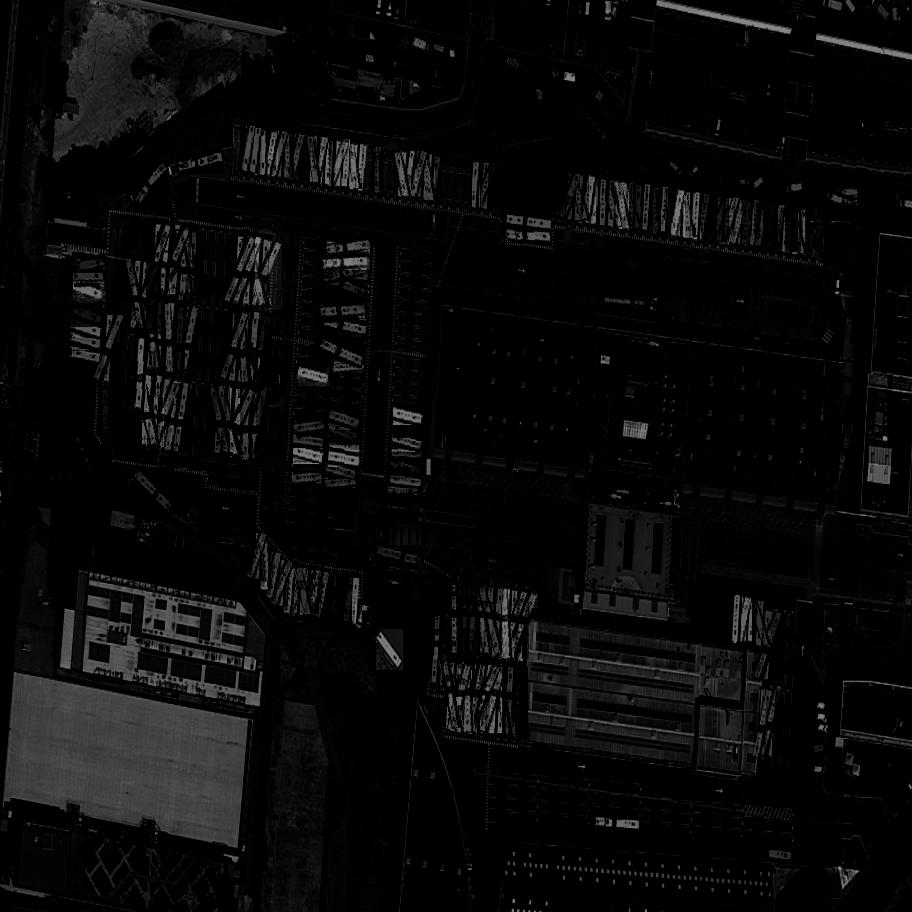large-vehicle: (220, 390, 257, 459), (250, 241, 285, 311), (468, 665, 503, 734), (222, 237, 256, 307), (128, 265, 162, 334), (231, 238, 265, 307), (159, 226, 193, 294), (92, 315, 125, 385), (150, 379, 182, 451), (130, 467, 177, 516), (219, 313, 251, 384), (508, 591, 539, 662), (499, 590, 530, 660), (143, 224, 173, 296), (754, 611, 784, 682), (131, 160, 171, 210), (481, 666, 508, 736), (448, 660, 473, 734), (249, 316, 274, 388), (244, 237, 269, 309), (760, 687, 785, 757), (217, 387, 241, 459), (478, 585, 502, 657), (246, 390, 269, 464), (831, 422, 855, 492), (466, 662, 489, 735), (163, 382, 186, 454), (208, 386, 230, 458), (753, 689, 775, 759), (179, 307, 200, 378), (318, 338, 366, 369), (509, 668, 529, 741), (137, 375, 157, 446), (127, 261, 147, 332), (374, 629, 407, 671), (184, 231, 203, 302), (322, 274, 370, 302), (174, 383, 192, 454), (437, 618, 454, 693), (176, 230, 193, 303), (148, 375, 165, 447), (269, 560, 294, 608), (473, 162, 498, 210), (245, 312, 261, 385), (494, 664, 510, 737), (145, 299, 161, 371), (327, 140, 351, 188), (474, 583, 490, 655), (710, 196, 734, 244), (445, 659, 461, 730), (286, 569, 310, 616), (246, 534, 269, 582), (561, 174, 584, 221), (542, 824, 591, 846), (320, 315, 368, 337), (719, 197, 741, 245), (377, 545, 424, 567), (177, 153, 226, 174), (321, 265, 370, 286), (751, 598, 772, 647), (492, 586, 506, 659), (271, 131, 291, 180), (595, 829, 644, 849), (410, 152, 430, 200), (621, 183, 641, 231), (746, 842, 794, 862), (646, 834, 693, 854), (159, 225, 172, 297), (431, 613, 444, 685), (306, 570, 325, 619), (729, 198, 748, 247), (505, 213, 553, 232), (323, 240, 373, 258), (394, 149, 412, 199), (605, 181, 624, 228), (779, 206, 798, 253), (289, 134, 307, 183), (70, 303, 105, 328), (314, 573, 332, 621), (755, 202, 773, 250), (265, 552, 282, 602), (313, 138, 331, 185), (672, 189, 689, 238), (174, 305, 185, 379), (698, 193, 714, 243), (573, 175, 590, 222), (505, 665, 516, 737), (298, 569, 314, 618), (328, 423, 362, 446), (329, 409, 363, 432), (72, 279, 106, 302), (238, 314, 249, 384), (737, 596, 753, 644), (390, 456, 423, 479), (789, 209, 805, 256), (297, 366, 331, 388), (590, 178, 605, 227), (429, 154, 444, 203), (240, 126, 255, 175), (772, 204, 787, 253), (135, 338, 145, 411), (165, 302, 175, 375), (341, 576, 356, 624), (764, 203, 779, 251), (326, 461, 360, 482), (391, 431, 425, 452), (67, 332, 102, 352), (265, 131, 280, 177), (595, 818, 641, 833), (582, 175, 596, 224), (616, 181, 630, 230), (292, 445, 326, 465), (393, 418, 425, 439), (322, 257, 370, 271), (71, 319, 104, 339), (405, 150, 419, 197), (320, 305, 367, 319), (463, 659, 472, 732), (348, 141, 361, 191), (307, 135, 320, 185), (461, 582, 470, 654), (99, 430, 122, 458), (696, 841, 742, 855), (503, 229, 552, 242), (469, 582, 478, 652), (502, 589, 511, 659), (393, 407, 426, 426), (422, 153, 435, 201), (683, 192, 696, 240), (328, 438, 362, 456), (68, 347, 102, 365), (74, 256, 108, 274), (250, 128, 263, 174), (327, 451, 362, 468), (749, 201, 761, 248), (99, 389, 113, 427), (284, 568, 295, 616), (357, 144, 368, 191), (877, 655, 909, 671), (292, 434, 326, 449), (325, 477, 358, 492), (294, 422, 327, 437), (332, 361, 365, 376), (292, 472, 324, 487), (285, 133, 295, 181), (342, 140, 352, 187), (643, 185, 653, 232), (660, 188, 670, 234), (800, 209, 810, 255), (388, 485, 420, 499), (651, 186, 660, 235), (453, 582, 459, 655), (390, 474, 421, 488), (473, 160, 482, 208), (353, 578, 362, 626), (692, 192, 701, 240), (732, 594, 741, 642), (391, 449, 424, 462), (158, 301, 164, 372), (261, 543, 270, 590), (634, 183, 643, 229), (326, 139, 334, 189), (375, 146, 383, 194), (244, 389, 249, 462), (293, 462, 324, 473), (601, 179, 608, 226), (73, 271, 105, 281), (260, 131, 267, 176), (748, 597, 755, 642), (744, 200, 749, 247)
small-vehicle: (362, 611, 380, 634), (356, 606, 371, 632), (506, 56, 526, 75), (651, 160, 673, 177), (412, 38, 433, 55), (733, 27, 748, 50), (427, 3, 442, 26), (667, 161, 687, 178), (457, 10, 470, 35), (599, 99, 617, 117), (749, 176, 768, 193), (746, 2, 766, 18), (798, 13, 818, 28), (891, 805, 907, 822), (875, 33, 896, 45), (827, 192, 845, 206), (433, 43, 450, 57), (760, 126, 770, 149), (609, 1, 621, 20), (682, 107, 692, 129), (575, 38, 586, 58), (839, 187, 859, 198), (392, 2, 403, 22), (12, 275, 23, 295), (32, 26, 43, 45), (812, 744, 829, 756), (877, 190, 897, 200), (715, 116, 724, 138), (546, 29, 555, 50), (596, 42, 604, 65), (15, 255, 25, 273), (31, 49, 41, 67), (766, 76, 774, 98), (688, 167, 701, 180), (818, 703, 832, 715), (82, 549, 90, 570), (816, 714, 831, 725), (545, 68, 560, 79), (843, 51, 852, 69), (9, 317, 18, 335), (787, 183, 803, 193), (892, 1, 899, 22), (3, 391, 11, 409), (853, 608, 861, 626), (857, 29, 872, 38), (552, 36, 559, 55), (814, 765, 827, 775), (698, 171, 714, 179), (12, 298, 20, 314), (210, 576, 217, 594), (606, 0, 612, 21), (745, 30, 751, 50), (118, 494, 125, 511), (451, 49, 464, 58), (20, 188, 26, 205), (91, 547, 96, 567), (824, 625, 834, 634), (1, 409, 6, 426), (420, 5, 425, 22), (18, 241, 24, 255), (868, 611, 873, 627), (9, 337, 14, 352), (413, 2, 418, 17), (356, 29, 365, 37), (740, 180, 750, 187), (819, 725, 828, 731)
